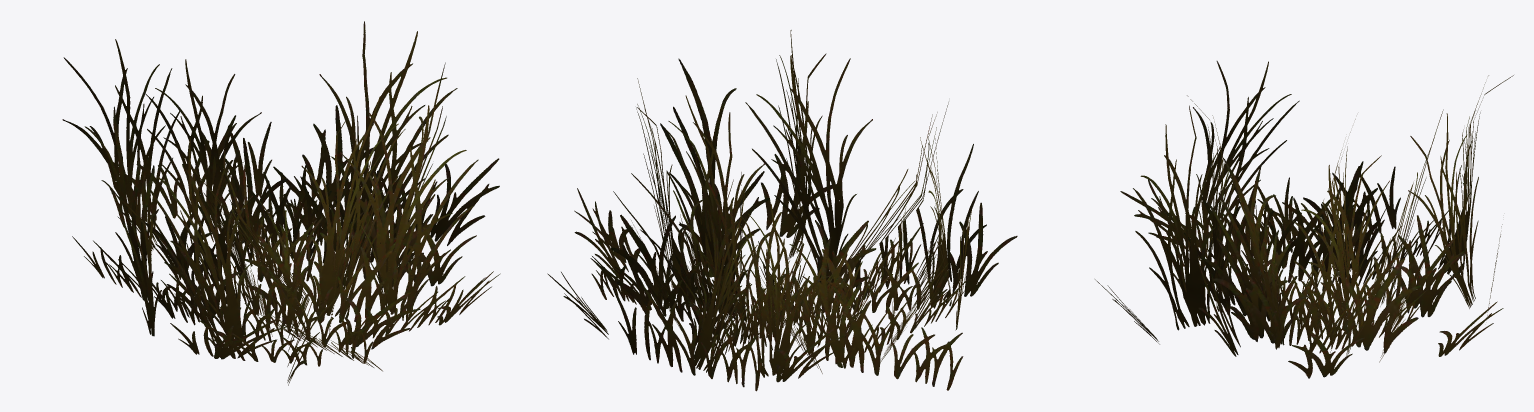
3 renders of one model, left to right at view 1: azimuth 30°, elevation 25°; view 2: azimuth 150°, elevation 25°; view 3: azimuth 270°, elevation 25°, orthographic. The views are drawn at different scales.
Parts seen in each view (by area): view 1: SM_DR_GrassLong_03_LOD0; view 2: SM_DR_GrassLong_03_LOD0; view 3: SM_DR_GrassLong_03_LOD0.
Part boxes in pixels (bbox=[...]): SM_DR_GrassLong_03_LOD0: bbox=[62, 21, 500, 385]; SM_DR_GrassLong_03_LOD0: bbox=[547, 30, 1017, 391]; SM_DR_GrassLong_03_LOD0: bbox=[1095, 61, 1513, 378].
Size of the model in its own units: 1.17 by 0.6121 by 1.08.
Materials: 1 (1 with a texture image).
